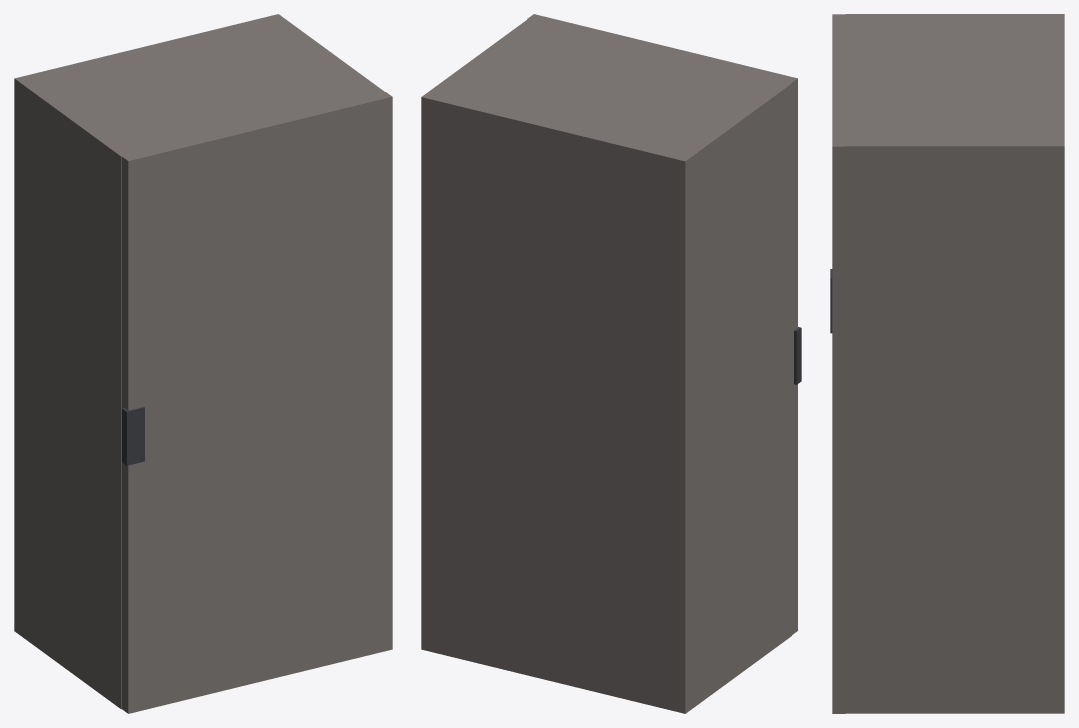
Rendered from dryingcabinetsmall_01_A.gltf.
The picture shows the model from 3 angles, left to right: view 1: azimuth 30°, elevation 25°; view 2: azimuth 150°, elevation 25°; view 3: azimuth 270°, elevation 25°; orthographic projection. The views are drawn at different scales.
Visible parts, largest first — view 1: Doordryingcabinetsmall_01_A, dryingcabinetsmall_01_A; view 2: dryingcabinetsmall_01_A, Doordryingcabinetsmall_01_A; view 3: dryingcabinetsmall_01_A, Doordryingcabinetsmall_01_A.
Boxes of the visible parts, x1,y1,x2,y2 form: Doordryingcabinetsmall_01_A: [122, 92, 392, 713]; dryingcabinetsmall_01_A: [14, 14, 384, 709]; dryingcabinetsmall_01_A: [421, 19, 791, 713]; Doordryingcabinetsmall_01_A: [527, 14, 801, 634]; dryingcabinetsmall_01_A: [845, 14, 1064, 713]; Doordryingcabinetsmall_01_A: [830, 14, 845, 713].
Bounding box in the file's own units: 1.01 × 2 × 0.7497.
Materials: 1 (1 with a texture image).
